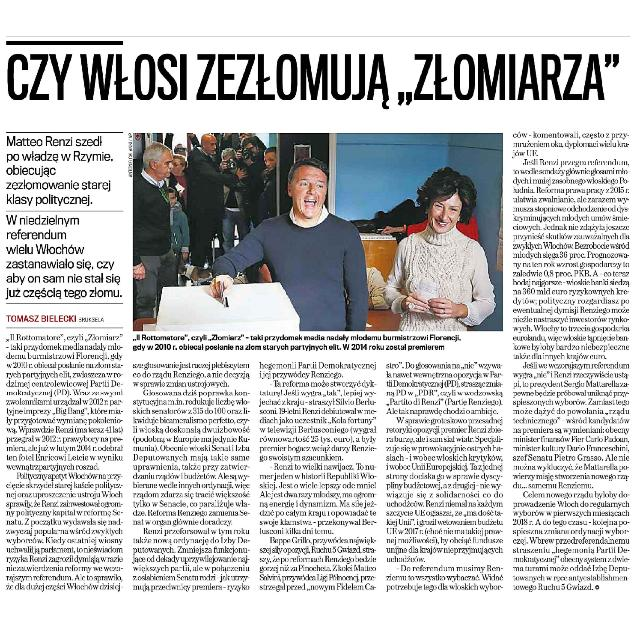author: (2, 312, 78, 326)
body: (508, 128, 640, 594), (4, 331, 126, 597), (130, 359, 256, 597), (258, 358, 382, 596), (384, 359, 506, 597)
caption: (128, 332, 468, 352)
image: (130, 130, 506, 332)
lead: (2, 133, 126, 301)
title: (5, 46, 627, 114)
